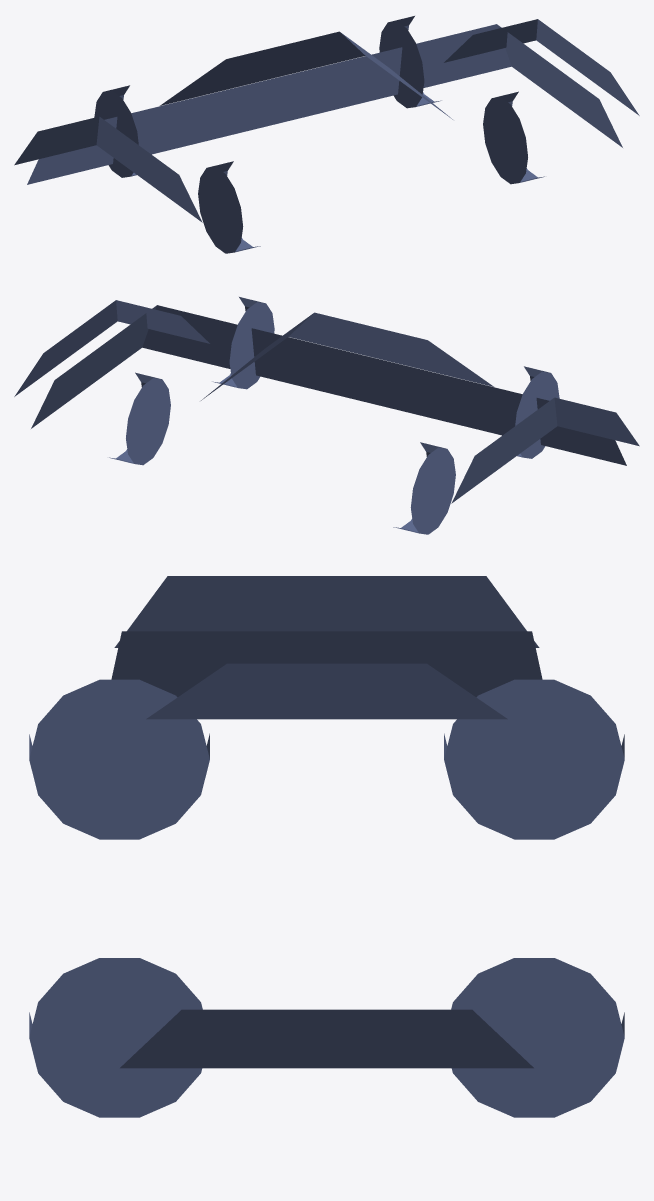
Rendered from carro_planta_3d.glb.
3 renders of one model, top to bottom at view 1: azimuth 30°, elevation 25°; view 2: azimuth 150°, elevation 25°; view 3: azimuth 270°, elevation 25°, orthographic. The views are drawn at different scales.
Visible parts, largest first — view 1: car; view 2: car; view 3: car.
Part boxes in pixels (<box>): car: <box>14,16,639,253</box>; car: <box>14,297,639,534</box>; car: <box>29,576,624,1117</box>.
Bounding box in the file's own units: 4.52 × 0.9515 × 2.24.
